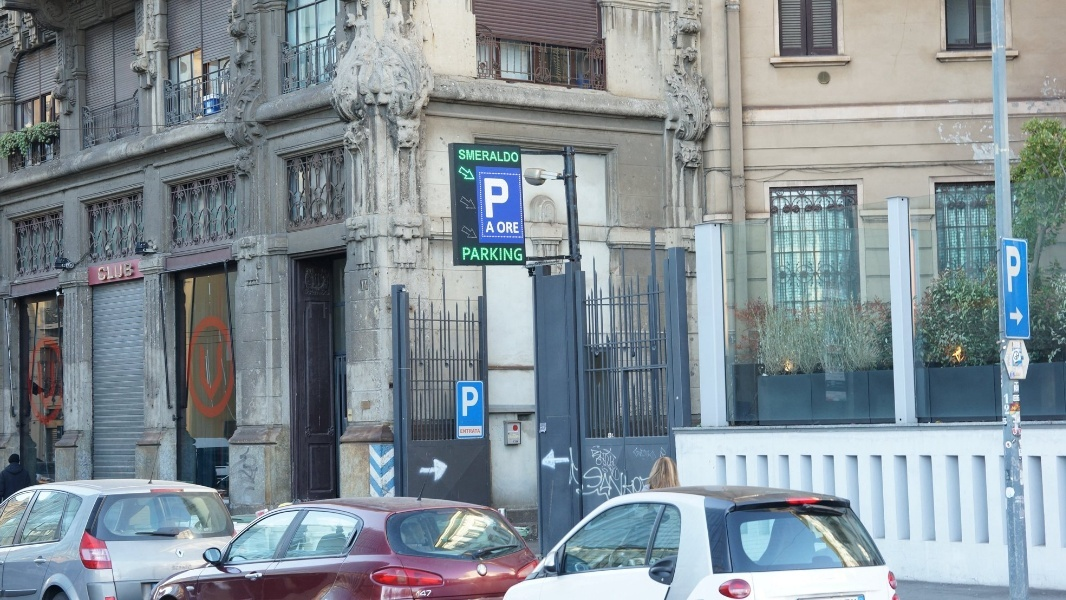text: (209, 343, 223, 401), (593, 446, 608, 497), (609, 446, 624, 497), (1009, 246, 1022, 293), (198, 343, 208, 401), (37, 361, 48, 411), (497, 178, 510, 219), (484, 178, 496, 219), (465, 387, 479, 417), (113, 262, 128, 282), (49, 361, 55, 411), (99, 262, 112, 282), (465, 246, 480, 262), (481, 246, 496, 262), (497, 246, 512, 262), (465, 149, 480, 164), (481, 149, 496, 164), (497, 149, 512, 164), (497, 221, 512, 234), (641, 447, 656, 460), (513, 246, 523, 262), (485, 221, 496, 234), (657, 447, 667, 460), (129, 262, 135, 282), (417, 590, 432, 597), (625, 446, 627, 497), (1006, 246, 1008, 293), (513, 221, 520, 234), (458, 149, 464, 164), (513, 149, 519, 164), (1004, 394, 1008, 415), (465, 429, 481, 434), (591, 446, 592, 497), (1009, 394, 1011, 415), (637, 447, 640, 460), (463, 387, 464, 417), (1003, 419, 1008, 425), (463, 246, 464, 262), (461, 429, 464, 434), (433, 590, 434, 597)
